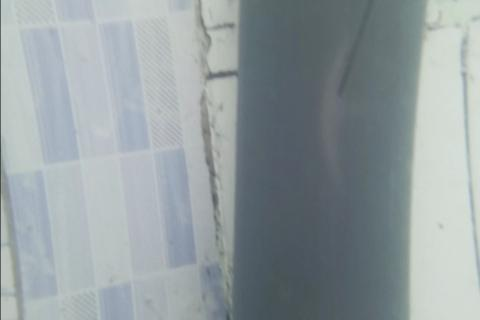keretakan: (334, 0, 375, 98)
